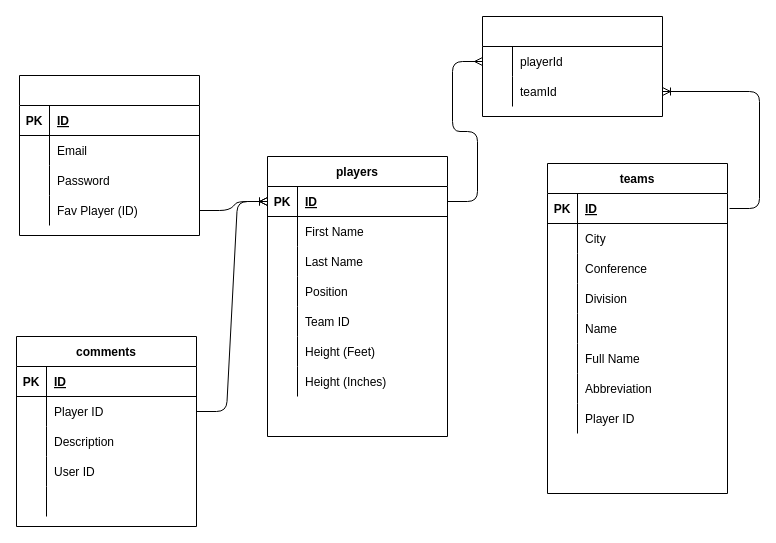
The diagram is 776 pixels wide and 543 high, and some of its shapes have lost their labels. Here are the shapes that lost their labels. From the top down, the box of each, then its label:
(482, 16, 662, 116): players_teams
(18, 74, 200, 236): users
